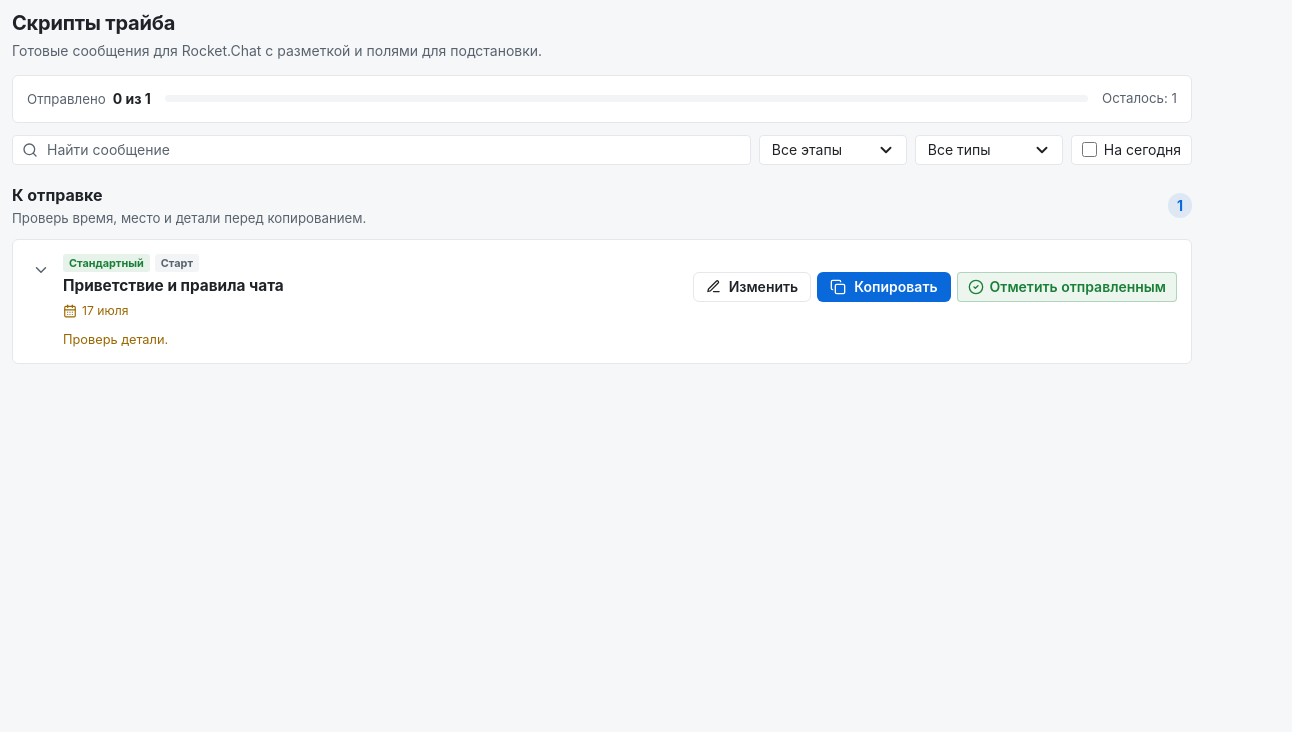
Scenario: TribeScripts › loads the current tribe templates and expands Rocket.Chat text
This screenshot has width=1292, height=732.
Expected: the heading "Приветствие и правила чата" is shown, [63,276,284,297]
Click the button named "Показать текст: Приветствие и правила чата": coordinates (41, 270) [27,256,55,284]
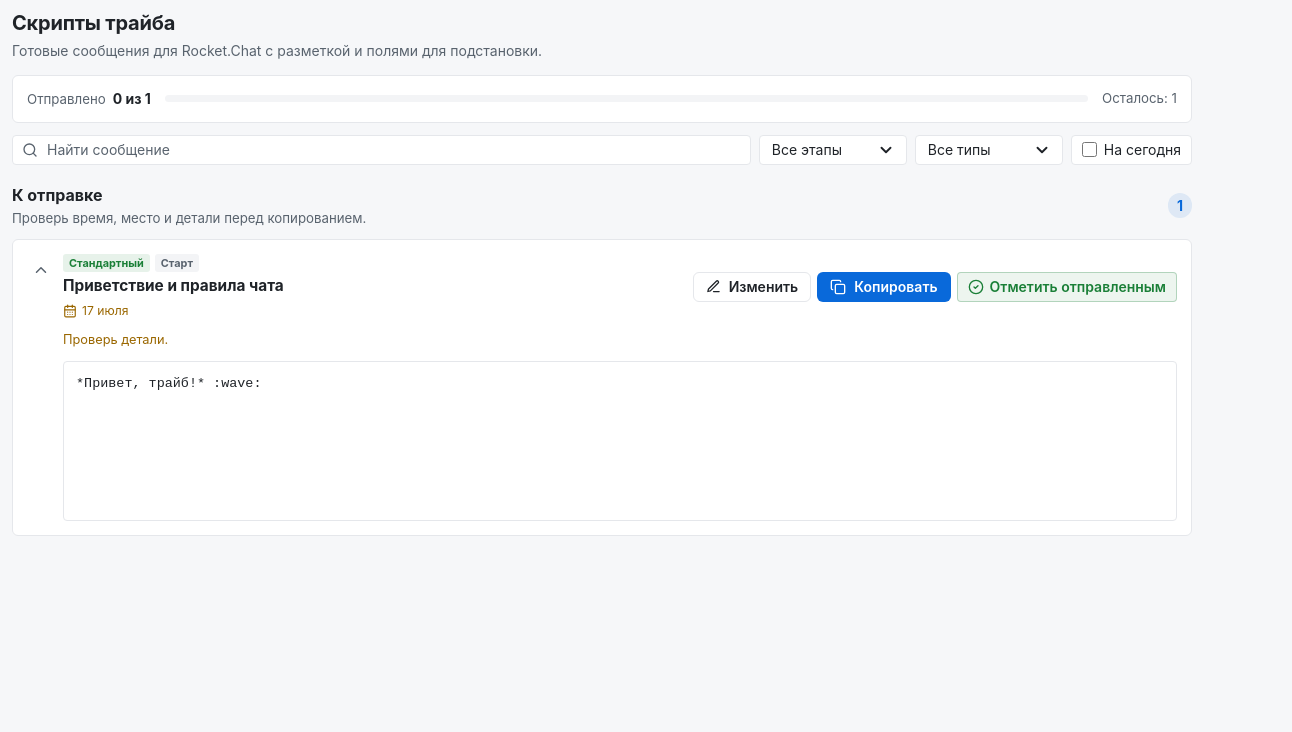
Now the text "*Привет, трайб!* :wave:" is shown, box [63,361,1177,521]
